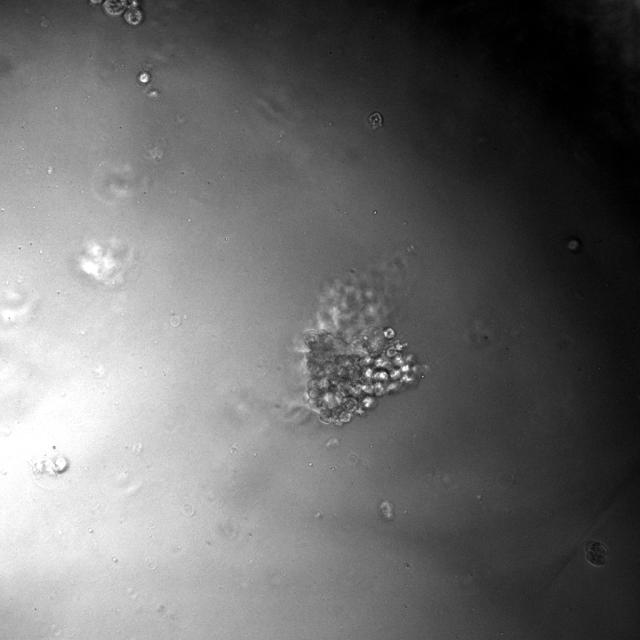organoid: (304, 265, 422, 425), (88, 0, 144, 26), (29, 454, 69, 478), (584, 540, 609, 567), (378, 499, 394, 520), (564, 236, 582, 253), (368, 111, 383, 129), (136, 71, 151, 86), (146, 89, 159, 98)
